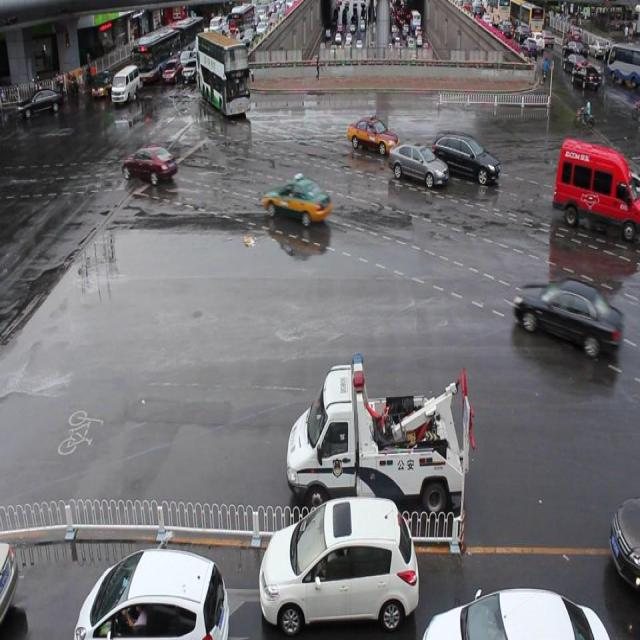bus: (286, 354, 472, 522)
car: (260, 494, 418, 633), (77, 545, 228, 640), (421, 584, 610, 640), (510, 278, 618, 356), (432, 132, 498, 187), (262, 177, 330, 227), (388, 140, 447, 190), (582, 165, 640, 213), (610, 498, 640, 586), (121, 144, 176, 185), (348, 114, 400, 157), (0, 536, 18, 631)
truck: (551, 136, 640, 241)
van: (194, 31, 250, 118)
